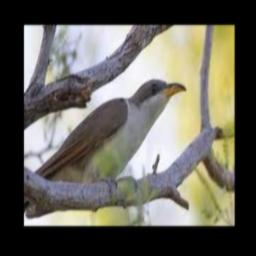Cuckoo: (32, 79, 186, 184)
